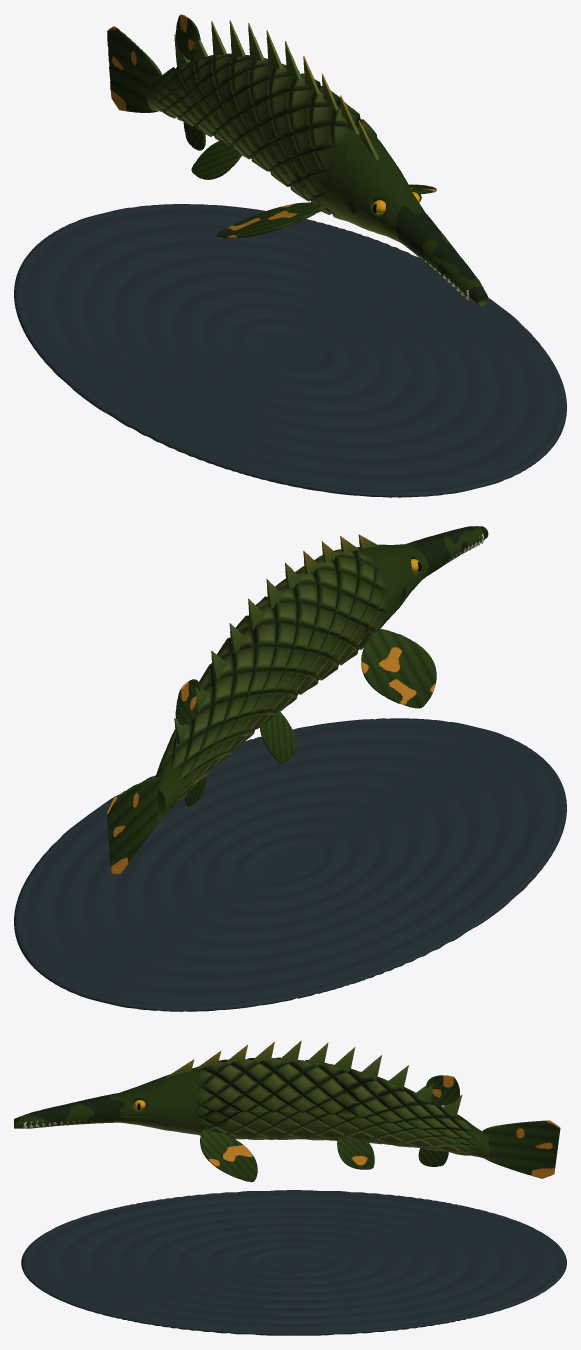
File: blackwater-gar-sculpt.glb
3 views of the same model, one above another, from view 1: azimuth 30°, elevation 25°; view 2: azimuth 150°, elevation 25°; view 3: azimuth 270°, elevation 25° (orthographic). The views are drawn at different scales.
Visible parts, largest first — view 1: blackwater-gar_sculpt; view 2: blackwater-gar_sculpt; view 3: blackwater-gar_sculpt.
Boxes of the visible parts, left/top/right/bottom form: blackwater-gar_sculpt: left=14, top=14, right=566, bottom=497; blackwater-gar_sculpt: left=14, top=526, right=566, bottom=1011; blackwater-gar_sculpt: left=14, top=1040, right=566, bottom=1335.
Size of the model in its own units: 0.8397 by 0.6097 by 1.36.
